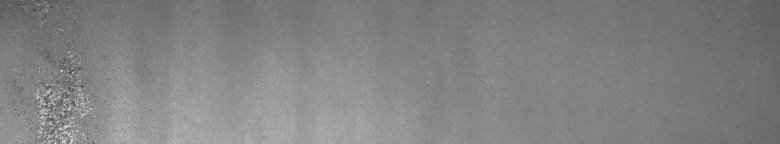hc: (7, 4, 95, 136)
